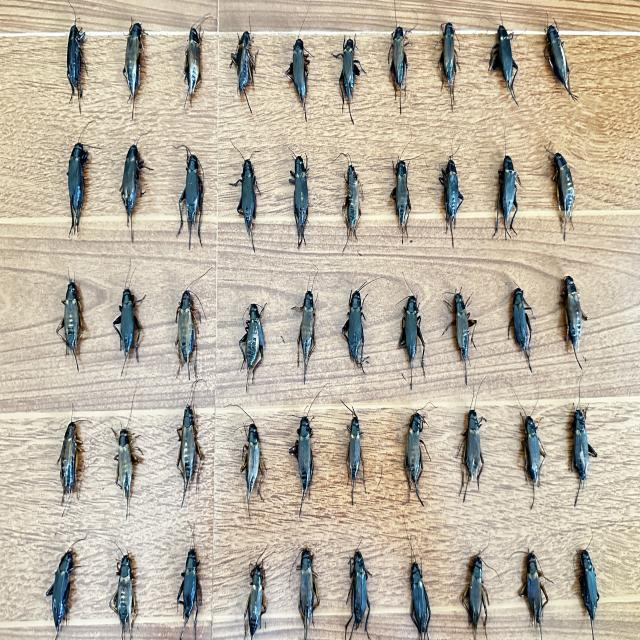egg: (517, 552, 548, 640), (176, 405, 204, 502), (120, 144, 145, 241), (175, 290, 202, 379), (546, 25, 577, 101), (489, 25, 518, 105), (46, 550, 74, 632), (289, 417, 313, 512), (56, 280, 81, 371), (563, 276, 587, 370), (110, 554, 137, 637), (241, 423, 265, 516), (439, 159, 464, 247), (234, 159, 257, 252), (115, 429, 139, 518), (461, 555, 489, 631), (296, 548, 319, 640), (346, 550, 370, 637), (113, 288, 142, 360), (524, 416, 546, 510), (286, 37, 310, 122), (495, 155, 520, 236), (179, 154, 204, 235), (67, 143, 89, 233), (334, 39, 362, 109), (123, 23, 144, 116), (553, 152, 575, 240), (572, 409, 597, 485), (240, 304, 265, 380), (342, 290, 366, 369), (398, 296, 418, 389), (231, 31, 255, 108), (462, 410, 485, 489), (244, 563, 267, 640), (388, 27, 408, 114), (512, 288, 532, 373), (391, 160, 411, 244), (297, 290, 315, 383), (410, 562, 431, 640), (290, 156, 308, 247), (573, 409, 589, 507), (347, 414, 364, 504), (181, 549, 199, 633), (67, 25, 85, 107), (454, 293, 470, 385), (405, 413, 422, 499), (343, 165, 361, 246), (579, 550, 599, 622), (59, 422, 76, 500), (441, 22, 456, 109), (184, 26, 201, 101), (528, 553, 537, 571), (420, 332, 424, 357), (355, 563, 358, 571)
